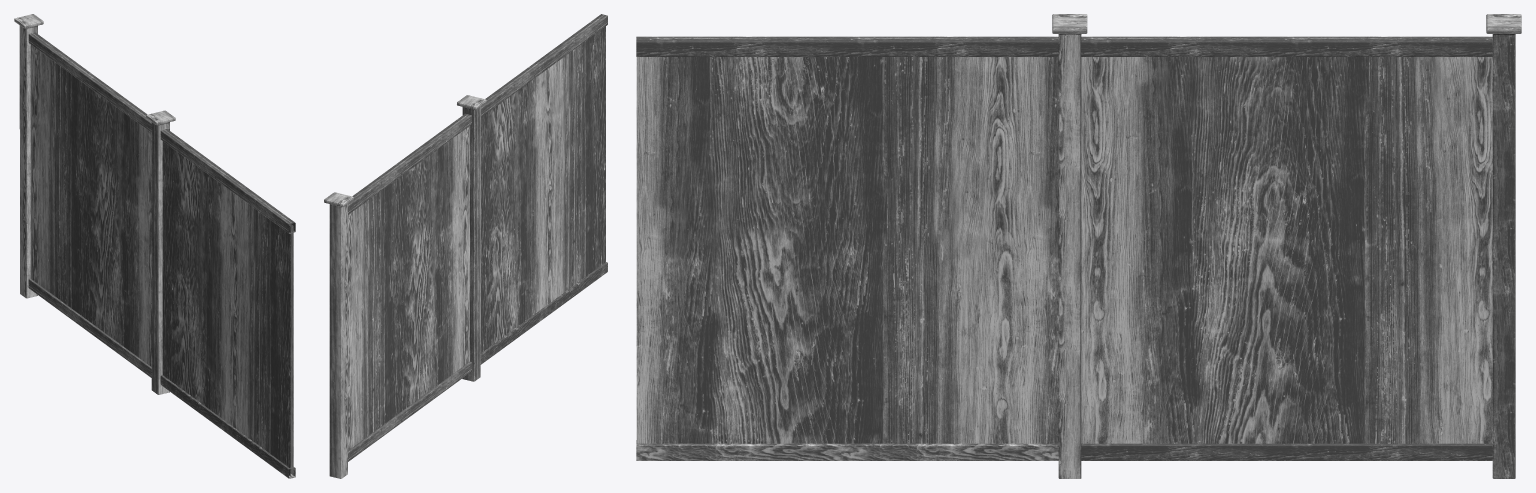
Rendered from SM_OutsideFence_A_400.fbx.
3 views of the same model, side by side, from view 1: azimuth 30°, elevation 25°; view 2: azimuth 150°, elevation 25°; view 3: azimuth 270°, elevation 25° (orthographic). The views are drawn at different scales.
Parts seen in each view (by area): view 1: SM_OutsideFence_A_400; view 2: SM_OutsideFence_A_400; view 3: SM_OutsideFence_A_400.
Part boxes in pixels (x1,y1,x2,y2): SM_OutsideFence_A_400: [14, 14, 295, 478]; SM_OutsideFence_A_400: [324, 14, 607, 478]; SM_OutsideFence_A_400: [636, 14, 1521, 478].
Size of the model in its own units: 17.2 by 408 by 230.
Materials: 2 (2 with a texture image).
